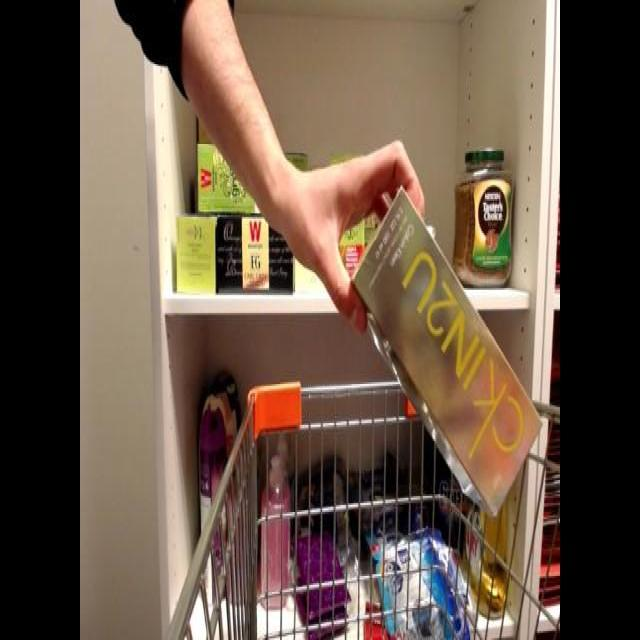Calvin Klein: (332, 178, 547, 517)
